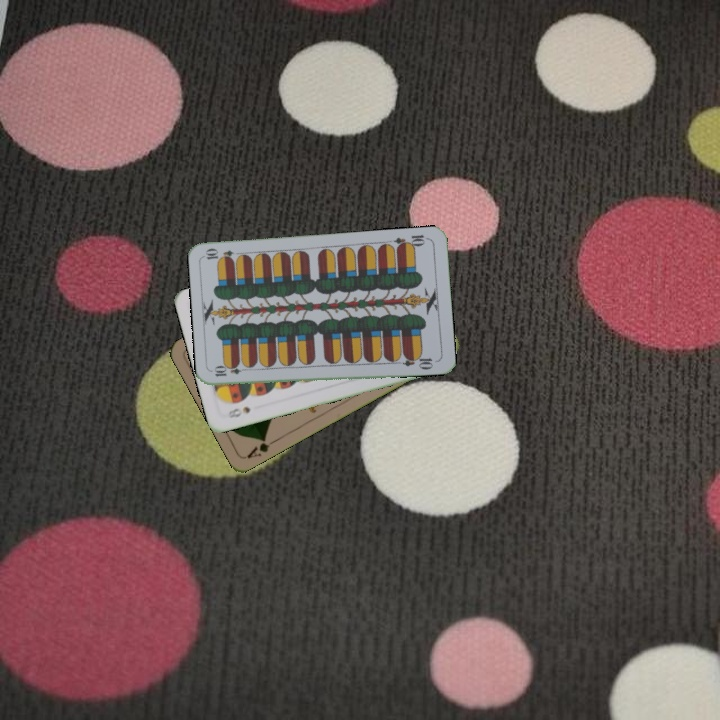E10: (390, 231, 431, 252), (210, 363, 251, 379)
GA: (243, 433, 280, 462)
S8: (224, 403, 253, 421)
